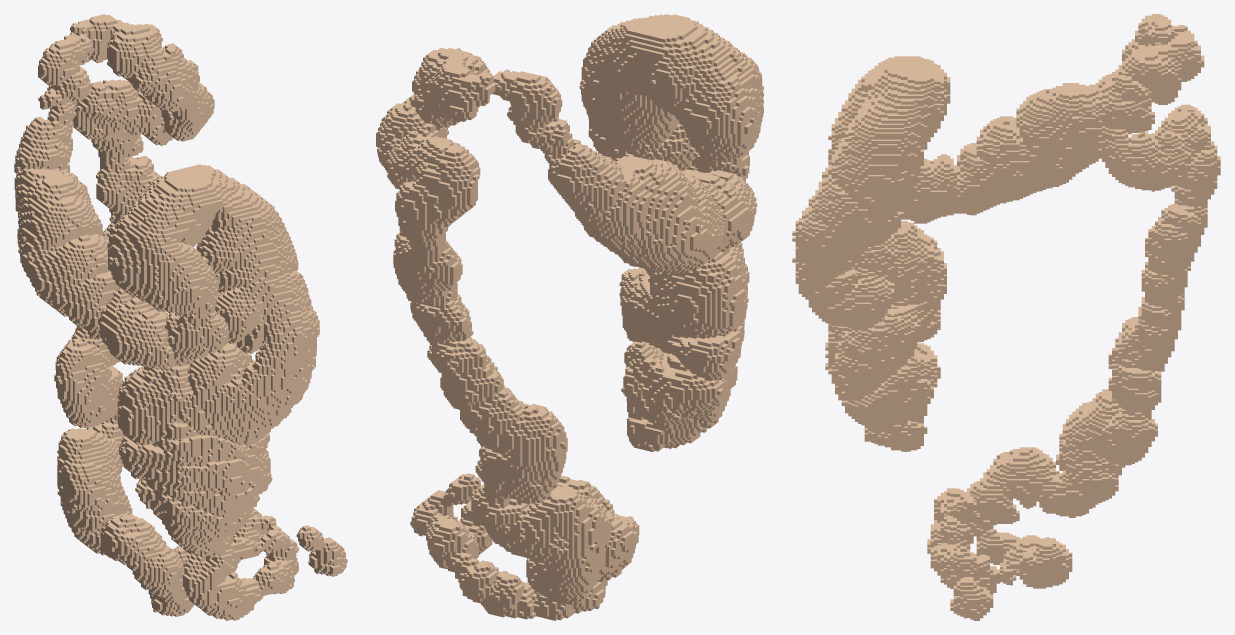
Rendered from colon2.fbx.
3 views of the same model, side by side, from view 1: azimuth 30°, elevation 25°; view 2: azimuth 150°, elevation 25°; view 3: azimuth 270°, elevation 25° (orthographic). The views are drawn at different scales.
Visible parts, largest first — view 1: AustinMan; view 2: AustinMan; view 3: AustinMan.
Boxes of the visible parts, left/top/right/bottom form: AustinMan: left=14, top=14, right=347, bottom=620; AustinMan: left=376, top=14, right=763, bottom=620; AustinMan: left=792, top=14, right=1220, bottom=620.
Size of the model in its own units: 10000 by 17700 by 13000.
